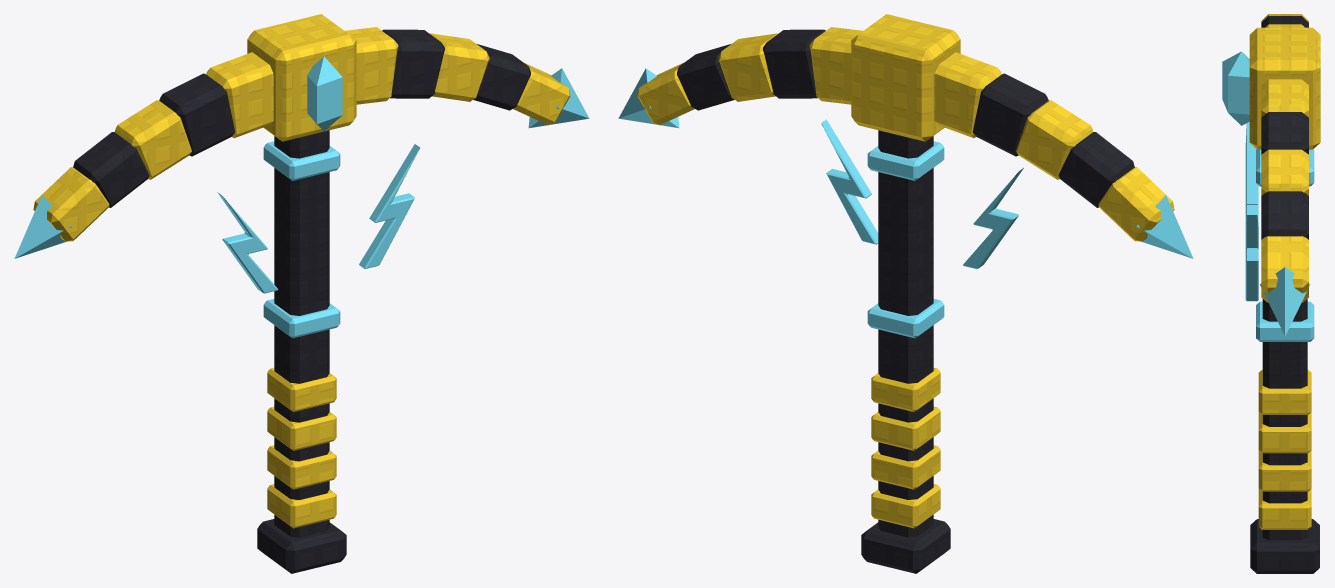
The model's file is outil_22_pioche_electrique.glb.
The picture shows the model from 3 angles, left to right: view 1: azimuth 30°, elevation 25°; view 2: azimuth 150°, elevation 25°; view 3: azimuth 270°, elevation 25°; orthographic projection.
Parts seen in each view (by area): view 1: outil_22_pioche_electrique; view 2: outil_22_pioche_electrique; view 3: outil_22_pioche_electrique.
Part boxes in pixels (<box>): outil_22_pioche_electrique: <box>14,14,589,573</box>; outil_22_pioche_electrique: <box>618,14,1193,573</box>; outil_22_pioche_electrique: <box>1222,14,1320,573</box>.
Size of the model in its own units: 4.97 by 4.34 by 0.747.
1 material, 1 textured.
